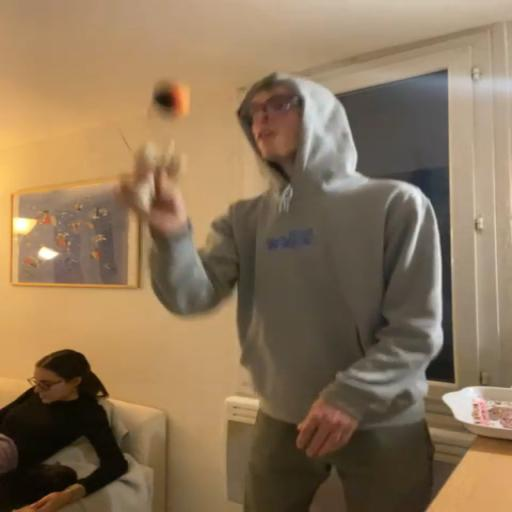kendama_ball: (150, 76, 190, 120)
